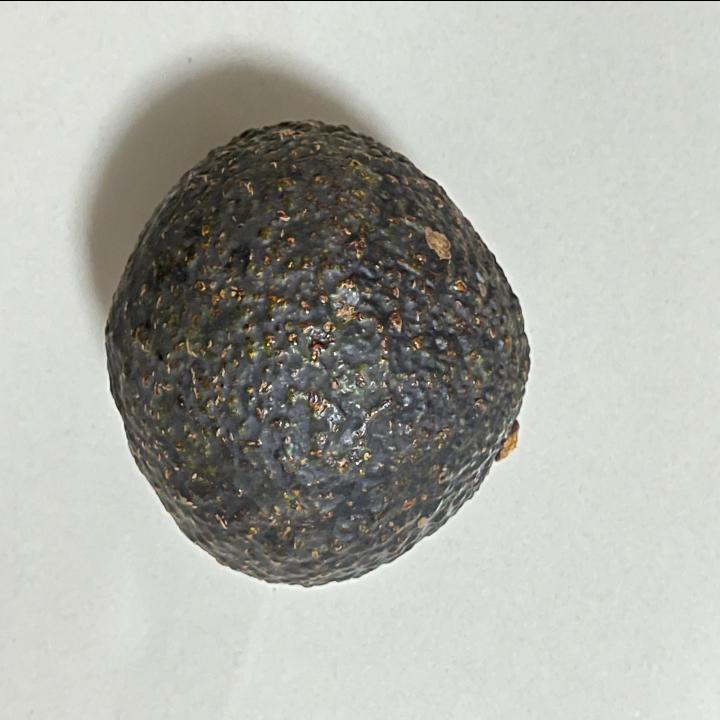Level1: (93, 108, 543, 602)
